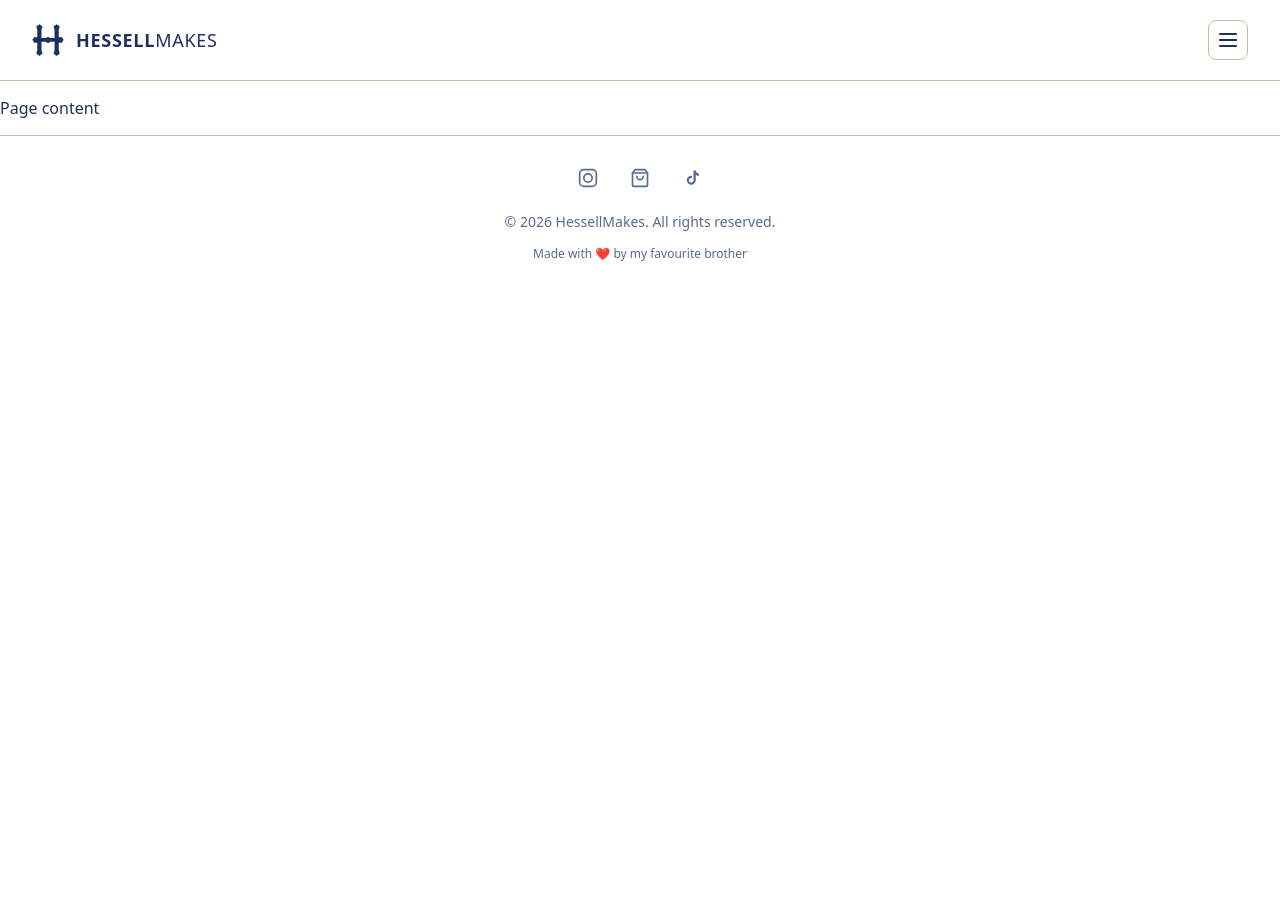
Scenario: AppLayout › switches theme via the toggle inside the hamburger menu
Expected: the 1st icon is shown, [32,24,64,56]
Click the button named "open menu".
click(1228, 40)  # box [1208,20,1248,60]
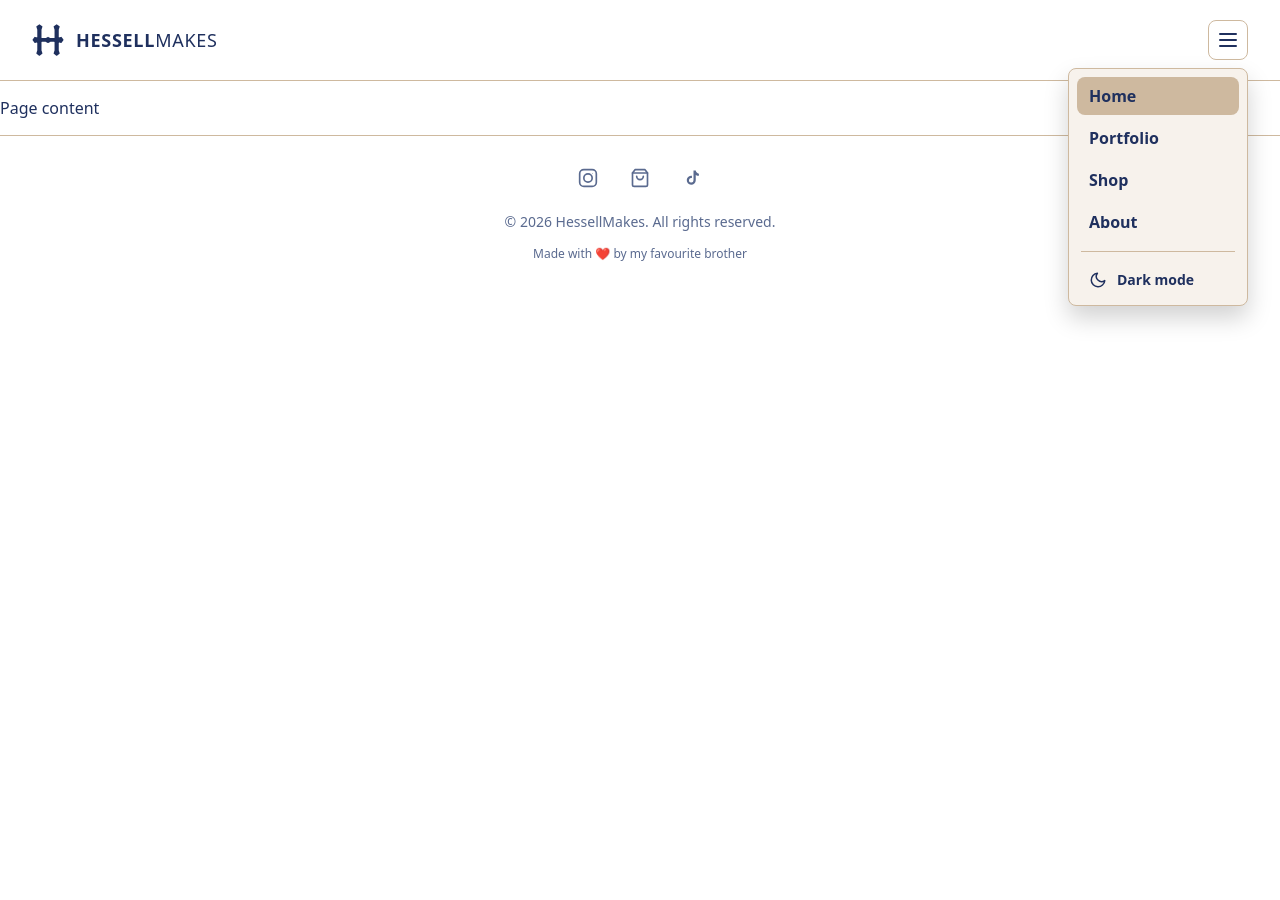
Click the button with aria-label "switch to dark mode".
click(1158, 280)  # box [1077,262,1239,297]
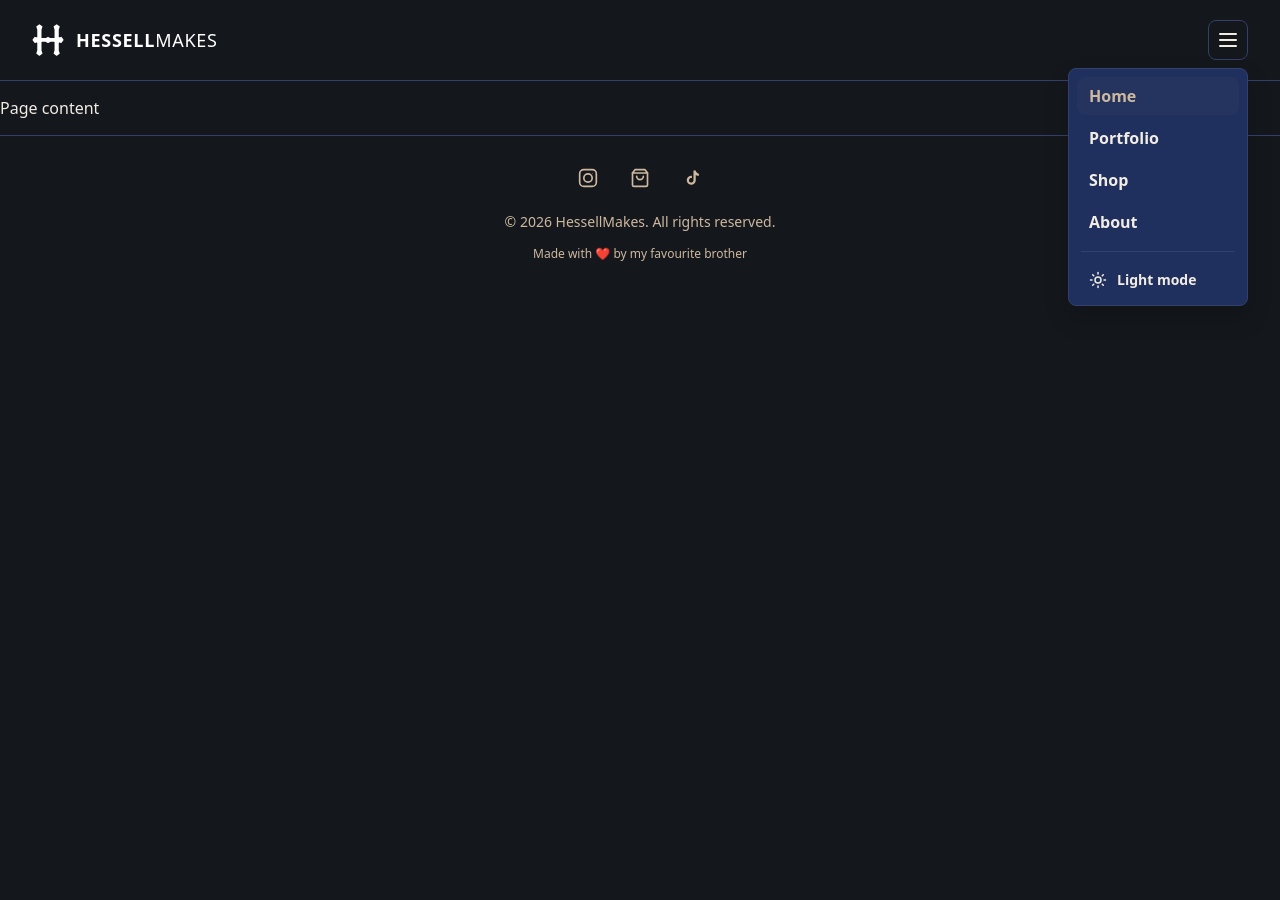
Result: the button with aria-label "switch to light mode" is shown at [1077,262,1239,297]
